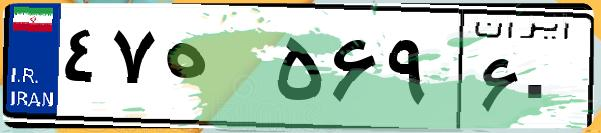0: (525, 38, 570, 115)
4: (57, 26, 110, 100)
5: (270, 28, 330, 110)
6: (330, 28, 385, 110), (475, 38, 525, 113)
7: (110, 28, 158, 98)
9: (385, 28, 445, 110)
ه: (158, 20, 270, 120)
